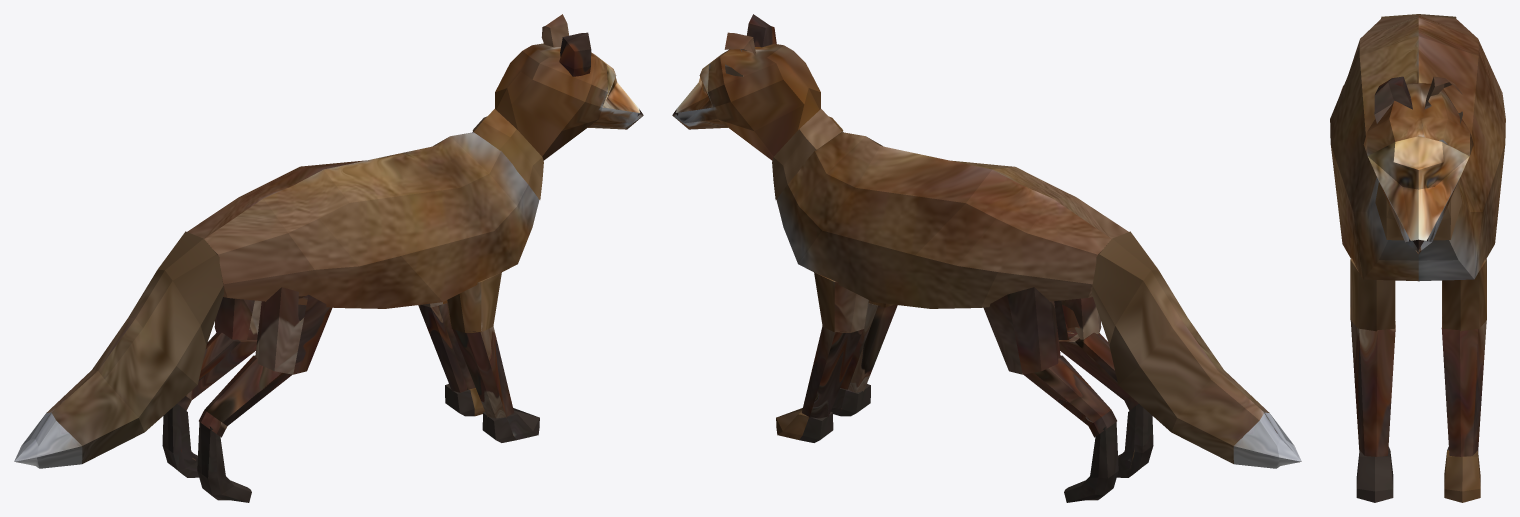
File: Fox.fbx
3 views of the same model, side by side, from view 1: azimuth 30°, elevation 25°; view 2: azimuth 150°, elevation 25°; view 3: azimuth 270°, elevation 25° (orthographic). The views are drawn at different scales.
Visible parts, largest first — view 1: Torso, Tail, Head, Behind Upper Legs right, Front Lower Legs right, Behind Lower Legs right, Neck, Front Lower Legs left, Front Upper Legs right, Right Back Paw, Behind Lower Legs left, Left Back Paw (+4 smaller); view 2: Torso, Tail, Head, Behind Upper Legs left, Front Lower Legs left, Behind Lower Legs left, Neck, Front Lower Legs right, Front Upper Legs left, Left Back Paw, Behind Lower Legs right, Right Back Paw (+4 smaller); view 3: Torso, Head, Front Lower Legs left, Front Lower Legs right, Front Upper Legs right, Front Upper Legs left, Left Front Paw, Right Front Paw, Neck, Ears.
Part boxes in pixels (x1=…): Torso: x1=187, y1=131, x2=539, y2=308; Tail: x1=14, y1=231, x2=224, y2=468; Head: x1=495, y1=43, x2=643, y2=160; Behind Upper Legs right: x1=255, y1=287, x2=332, y2=374; Front Lower Legs right: x1=452, y1=321, x2=514, y2=418; Behind Lower Legs right: x1=199, y1=355, x2=292, y2=437; Neck: x1=472, y1=109, x2=543, y2=199; Front Lower Legs left: x1=418, y1=303, x2=475, y2=392; Front Upper Legs right: x1=447, y1=272, x2=501, y2=332; Right Back Paw: x1=197, y1=422, x2=251, y2=502; Behind Lower Legs left: x1=177, y1=332, x2=257, y2=410; Left Back Paw: x1=162, y1=404, x2=198, y2=477; Torso: x1=776, y1=131, x2=1128, y2=308; Tail: x1=1091, y1=231, x2=1301, y2=468; Head: x1=672, y1=43, x2=820, y2=160; Behind Upper Legs left: x1=983, y1=287, x2=1060, y2=374; Front Lower Legs left: x1=801, y1=326, x2=863, y2=418; Behind Lower Legs left: x1=1023, y1=355, x2=1116, y2=437; Neck: x1=772, y1=109, x2=843, y2=199; Front Lower Legs right: x1=840, y1=303, x2=897, y2=392; Front Upper Legs left: x1=814, y1=272, x2=868, y2=332; Left Back Paw: x1=1064, y1=422, x2=1118, y2=502; Behind Lower Legs right: x1=1058, y1=330, x2=1138, y2=410; Right Back Paw: x1=1117, y1=404, x2=1153, y2=477; Torso: x1=1330, y1=15, x2=1505, y2=281; Head: x1=1363, y1=83, x2=1473, y2=254; Front Lower Legs left: x1=1441, y1=315, x2=1486, y2=456; Front Lower Legs right: x1=1350, y1=320, x2=1395, y2=456; Front Upper Legs right: x1=1350, y1=258, x2=1395, y2=331; Front Upper Legs left: x1=1442, y1=258, x2=1486, y2=331; Left Front Paw: x1=1356, y1=447, x2=1393, y2=502; Right Front Paw: x1=1444, y1=446, x2=1480, y2=502; Neck: x1=1375, y1=182, x2=1461, y2=240; Ears: x1=1374, y1=76, x2=1462, y2=123.
Size of the model in its own units: 439 by 252 by 88.6.
Materials: 1 (1 with a texture image).
